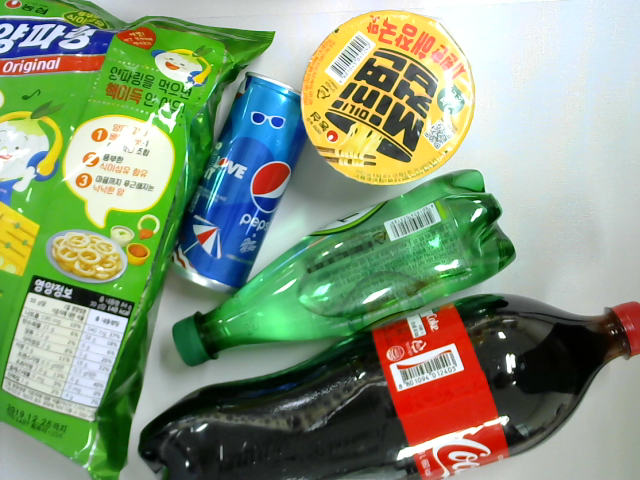Coca_Cola_1.5L: (137, 292, 640, 479)
Hejangmini: (300, 11, 479, 188)
Oninon_Ring: (1, 1, 276, 480)
Pepsi_Cola_Can_250ml: (168, 70, 306, 299)
Treviraim_500ml: (170, 169, 519, 369)
